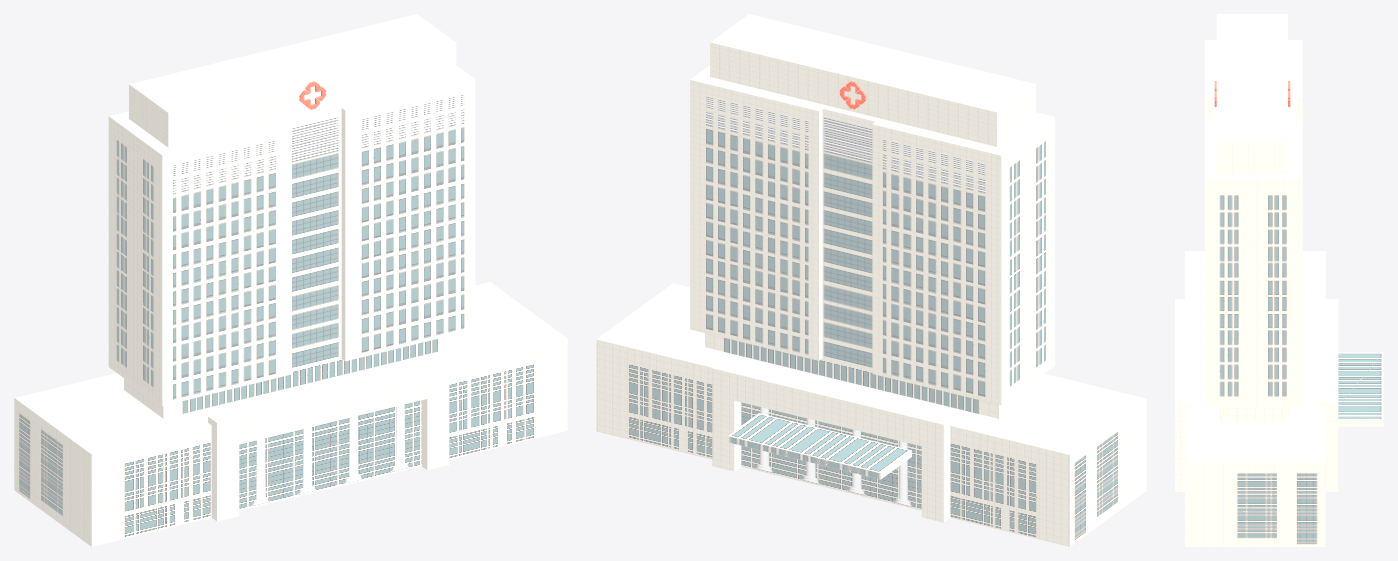
The model's file is Hospital.glb.
The picture shows the model from 3 angles, left to right: view 1: azimuth 30°, elevation 25°; view 2: azimuth 150°, elevation 25°; view 3: azimuth 270°, elevation 25°; orthographic projection. The views are drawn at different scales.
Parts seen in each view (by area): view 1: Hospital; view 2: Hospital; view 3: Hospital.
Part boxes in pixels (x1,y1,x2,y2): Hospital: [14, 14, 567, 546]; Hospital: [596, 14, 1146, 546]; Hospital: [1175, 14, 1383, 546].
Size of the model in its own units: 60 by 48 by 25.
Materials: 2 (1 with a texture image).
